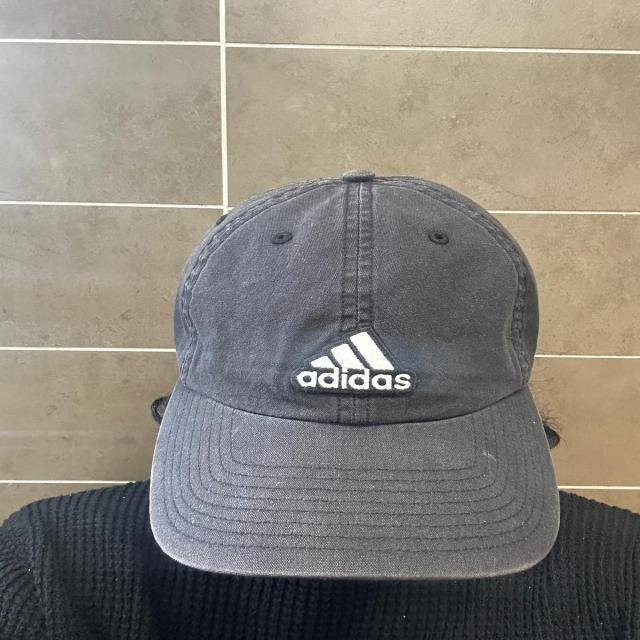cap: (128, 162, 611, 592)
